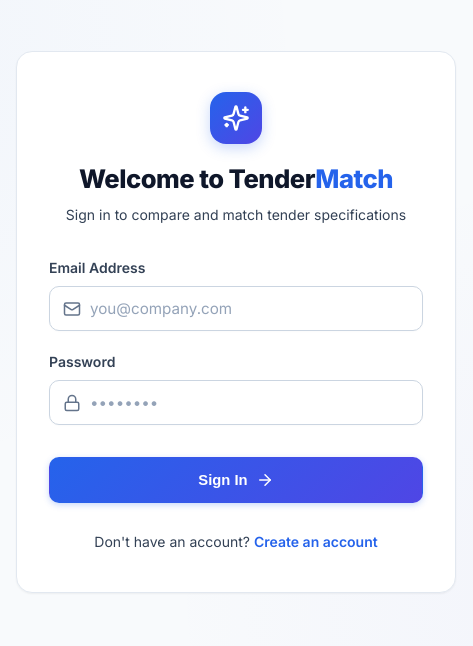
Test: LoginPage › should show error message on invalid credentials
The image size is (473, 646).
Type "buyer@example.com" into the field labelled "Email Address" at (236, 309), box [49,286,423,331]
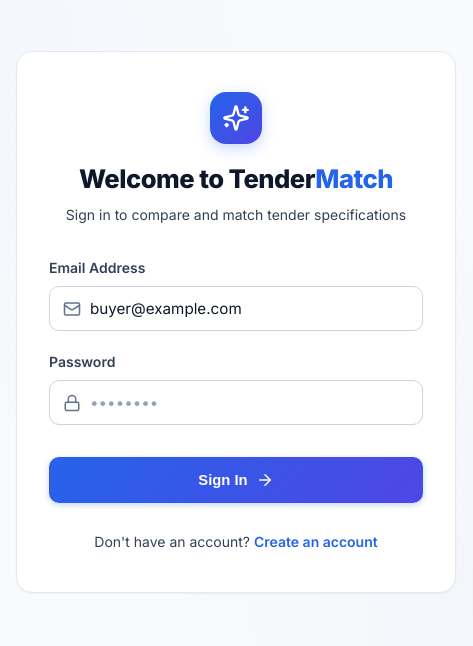
Type "wrongPassword" into the password field labelled "Password" at (236, 403), box [49,380,423,425]
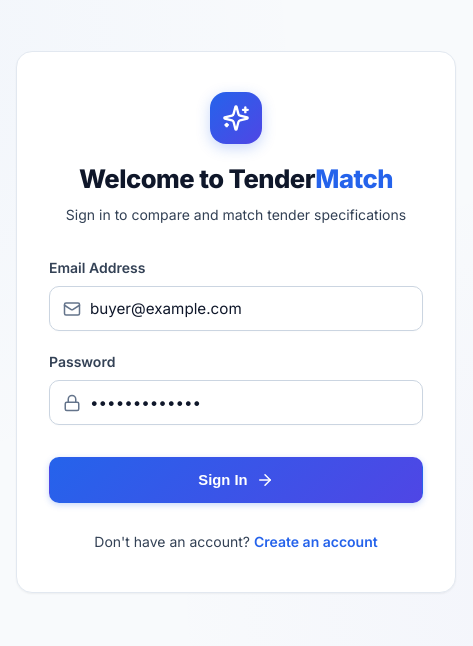
Click the button "Sign In" at (236, 480), box [49,457,423,503]
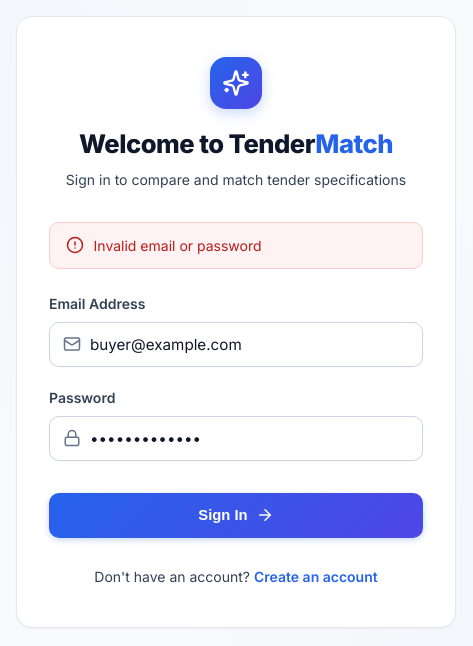
Expected: the text "Invalid email or password" is shown, [94,235,262,256]
